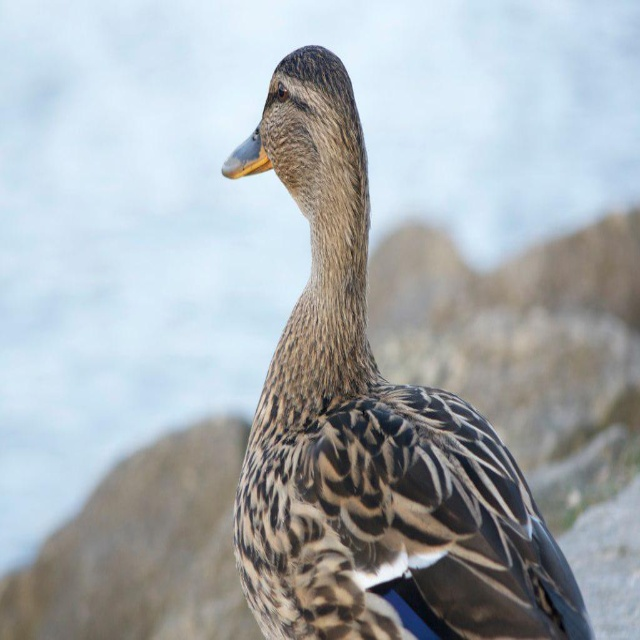Goose: (226, 77, 588, 640)
